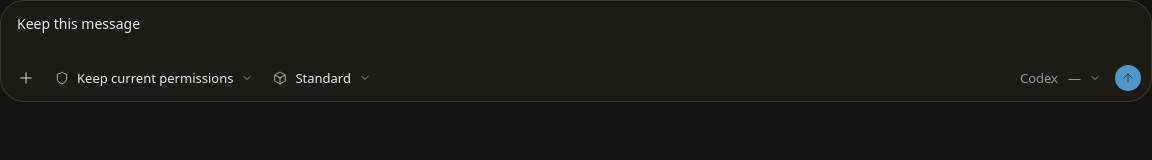
Test: preserves recovery in memory for service_unavailable when storage is unavailable
Click the button named "Send" at (1128, 78), box [1115,65,1141,91]
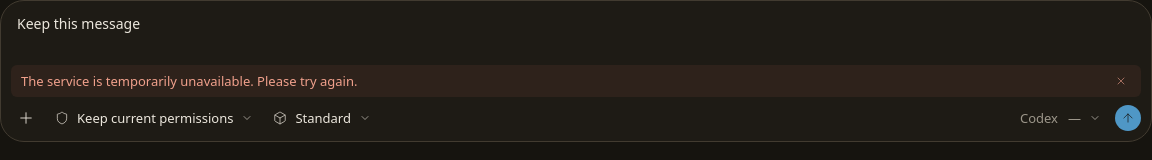
expect the message "The service is temporarily unavailable. Please try again." is shown: met, box [11,65,1141,97]
